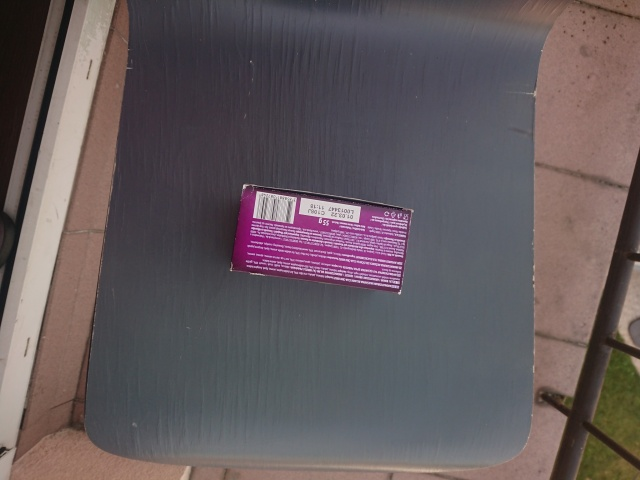Franck Black Currant Tea 60g: (227, 180, 416, 297)
